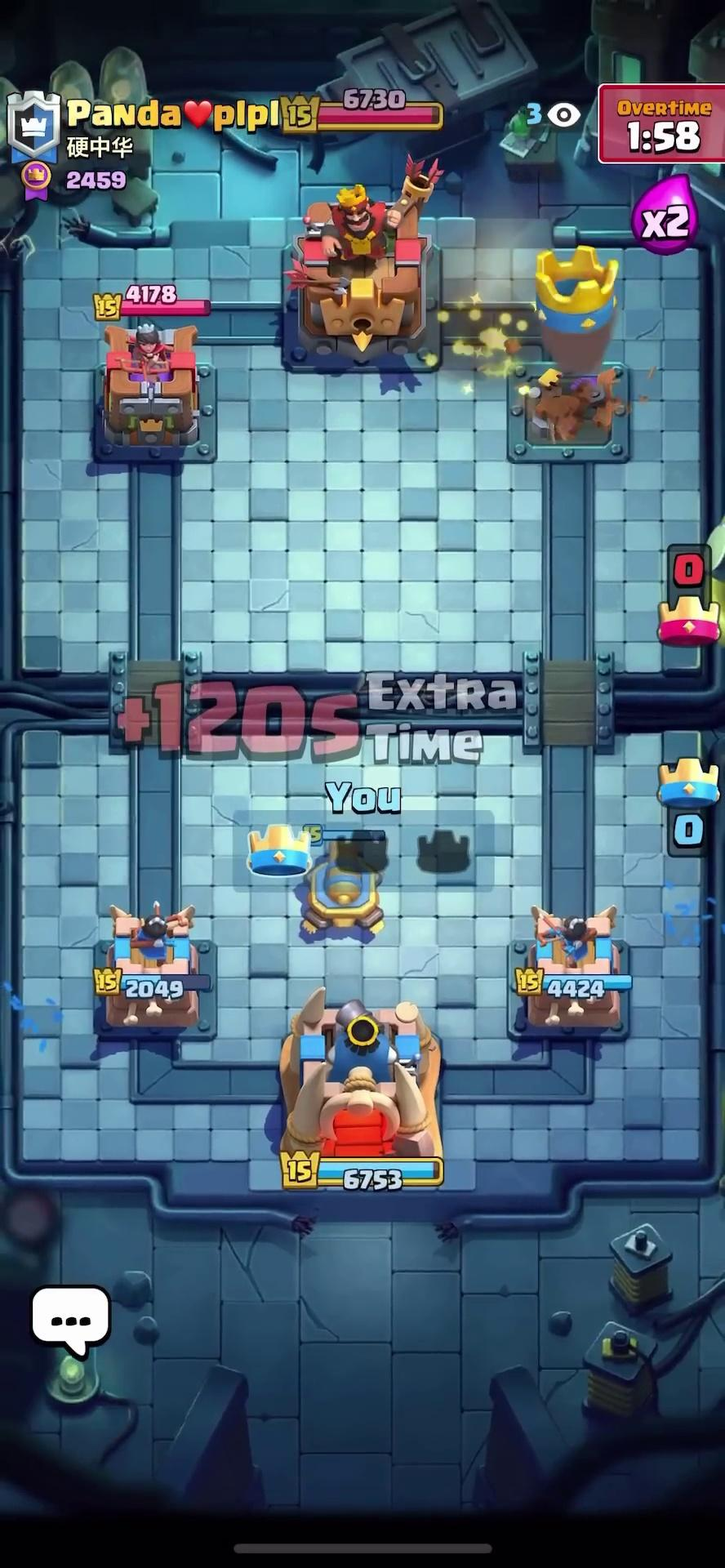cannon: (300, 831, 396, 939)
